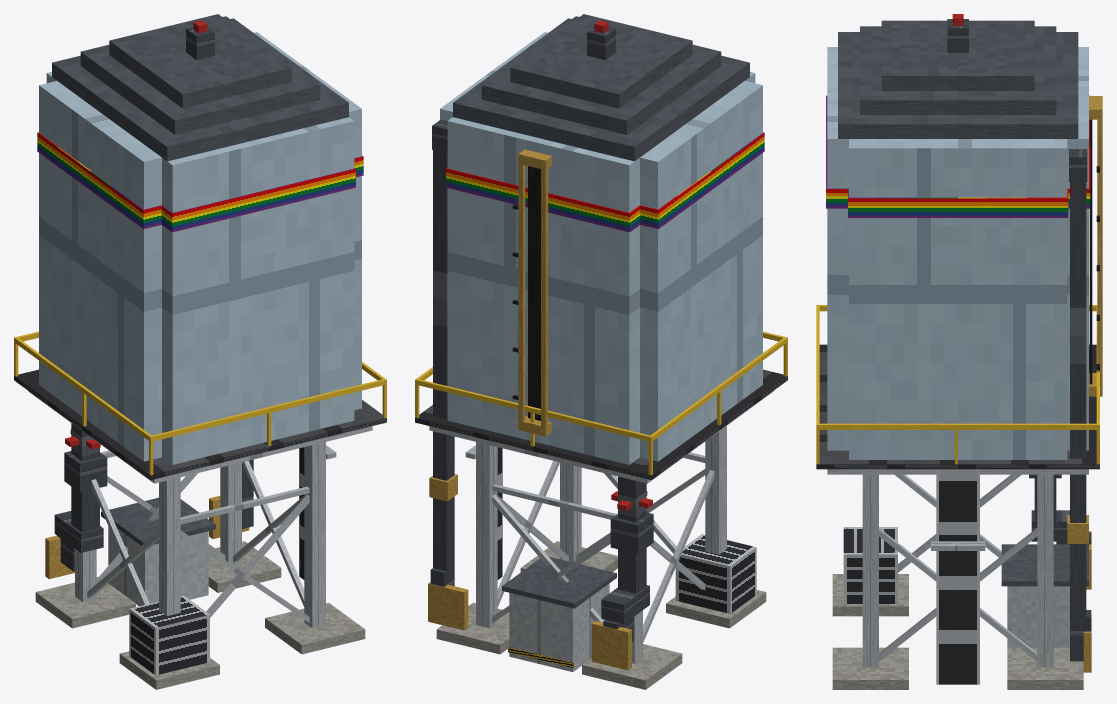
Rendered from water_tower.obj.
3 renders of one model, left to right at view 1: azimuth 30°, elevation 25°; view 2: azimuth 150°, elevation 25°; view 3: azimuth 270°, elevation 25°, orthographic. The views are drawn at different scales.
Visible parts, largest first — view 1: tank_a, tank_b, roof_3, roof_1, roof_2, drive_box, balcony, band_a, leg2, cabinet, leg3, footing_bl (+23 smaller); view 2: tank_a, tank_b, roof_3, roof_1, roof_2, inlet_riser, cabinet, drive_box, balcony, leg0, band_a, cabinet_roof (+27 smaller); view 3: tank_b, roof_3, tank_a, roof_1, ladder, roof_2, inlet_riser, balcony, band_b, leg0, leg2, footing_bl (+21 smaller).
Boxes of the visible parts, <box> form: tank_a: <box>46,72,354,464</box>; tank_b: <box>39,32,361,461</box>; roof_3: <box>109,14,291,108</box>; roof_1: <box>52,18,348,161</box>; roof_2: <box>80,16,320,134</box>; drive_box: <box>129,595,209,675</box>; balcony: <box>14,369,386,480</box>; band_a: <box>161,168,355,232</box>; leg2: <box>304,442,325,628</box>; cabinet: <box>108,526,208,606</box>; leg3: <box>159,477,180,615</box>; footing_bl: <box>265,602,365,654</box>; tank_a: <box>447,72,755,464</box>; tank_b: <box>440,32,762,461</box>; roof_3: <box>510,14,692,108</box>; roof_1: <box>453,18,749,161</box>; roof_2: <box>481,16,721,134</box>; inlet_riser: <box>433,150,454,571</box>; cabinet: <box>509,583,609,671</box>; drive_box: <box>675,534,756,613</box>; balcony: <box>415,369,787,480</box>; leg0: <box>476,442,497,628</box>; band_a: <box>446,168,640,232</box>; cabinet_roof: <box>502,556,616,608</box>; tank_b: <box>849,139,1067,459</box>; roof_3: <box>881,20,1034,90</box>; tank_a: <box>827,47,1088,450</box>; roof_1: <box>838,32,1078,138</box>; ladder: <box>936,469,979,684</box>; roof_2: <box>860,26,1056,114</box>; inlet_riser: <box>1070,182,1086,616</box>; balcony: <box>816,344,1099,469</box>; band_b: <box>848,188,1068,217</box>; leg0: <box>1037,474,1053,667</box>; leg2: <box>862,474,878,667</box>; footing_bl: <box>832,647,908,689</box>.
Size of the model in its own units: 3.31 by 7.84 by 3.28.
